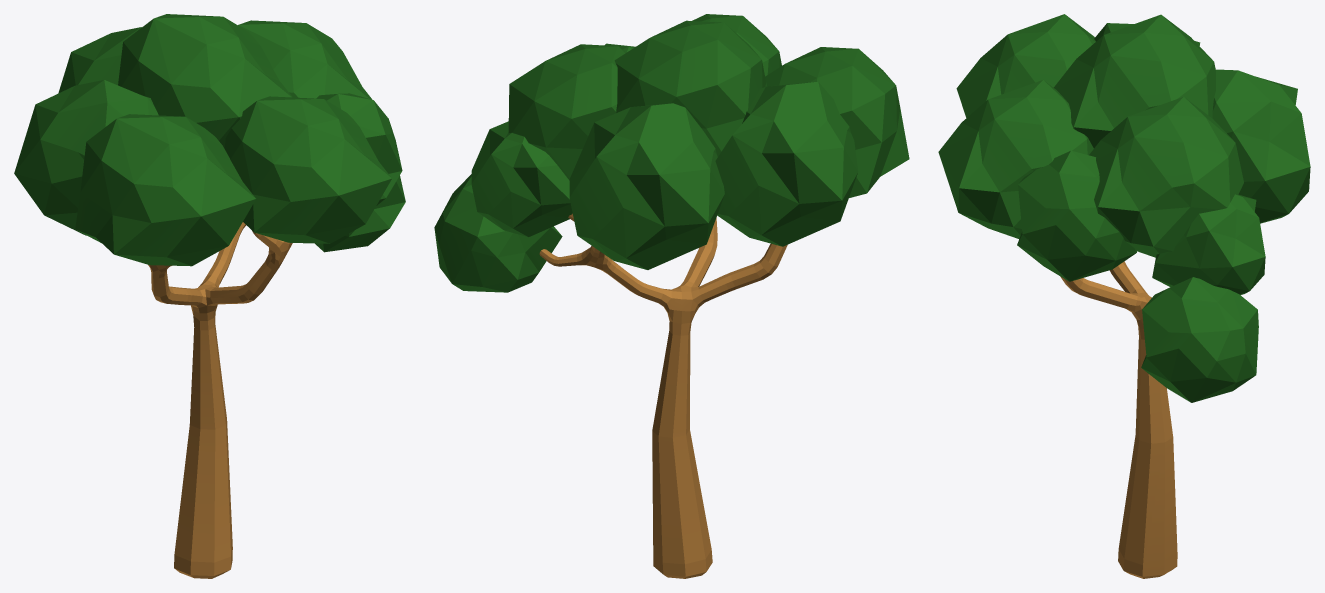
The model's file is tree.054_lev4.glb.
The picture shows the model from 3 angles, left to right: view 1: azimuth 30°, elevation 25°; view 2: azimuth 150°, elevation 25°; view 3: azimuth 270°, elevation 25°; orthographic projection. The views are drawn at different scales.
Visible parts, largest first — view 1: tree.054_lev4; view 2: tree.054_lev4; view 3: tree.054_lev4.
Boxes of the visible parts, box(x1,y1,x2,y2) form: tree.054_lev4: box(14, 14, 405, 578); tree.054_lev4: box(434, 14, 909, 578); tree.054_lev4: box(938, 14, 1310, 578).
Bounding box in the file's own units: 0.7419 × 1 × 0.6312.
